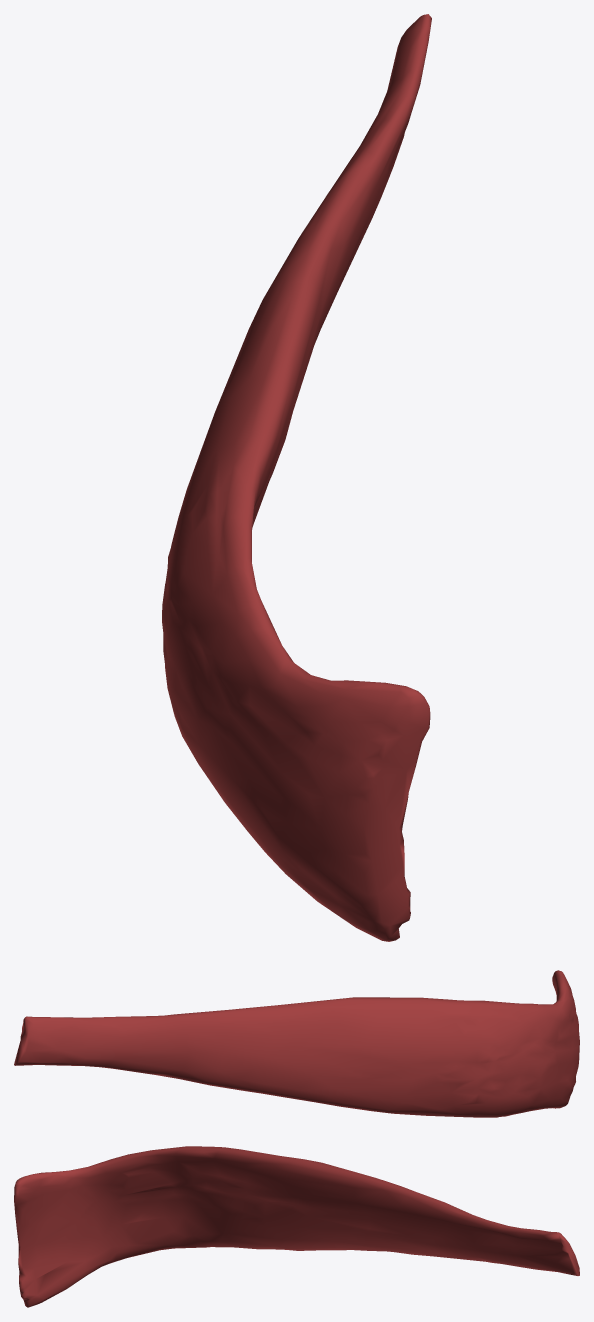
Rendered from lateral-rectus-muscle-r.glb.
The picture shows the model from 3 angles, top to bottom: view 1: azimuth 30°, elevation 25°; view 2: azimuth 150°, elevation 25°; view 3: azimuth 270°, elevation 25°; orthographic projection. The views are drawn at different scales.
Parts seen in each view (by area): view 1: Lateral rectus muscle.r; view 2: Lateral rectus muscle.r; view 3: Lateral rectus muscle.r.
Boxes of the visible parts, x1,y1,x2,y2 form: Lateral rectus muscle.r: (162, 14, 431, 941); Lateral rectus muscle.r: (14, 970, 579, 1117); Lateral rectus muscle.r: (14, 1146, 579, 1307).
Bounding box in the file's own units: 0.0264 × 0.0165 × 0.0398.
